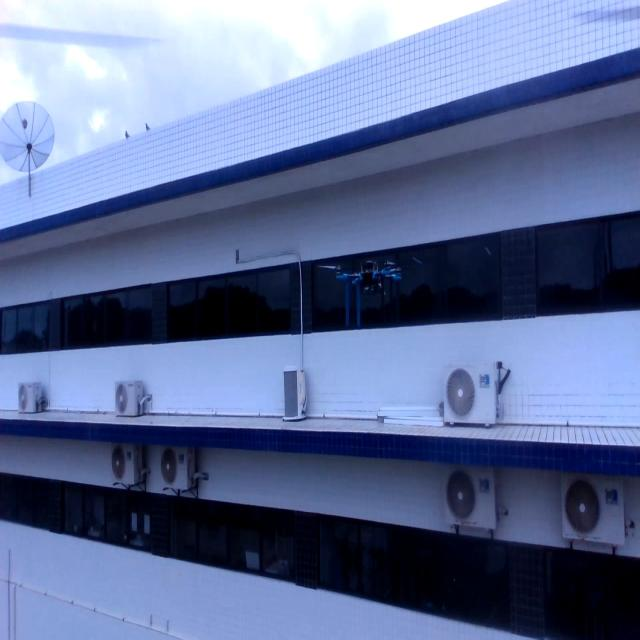-uav-: (322, 232, 406, 344)
